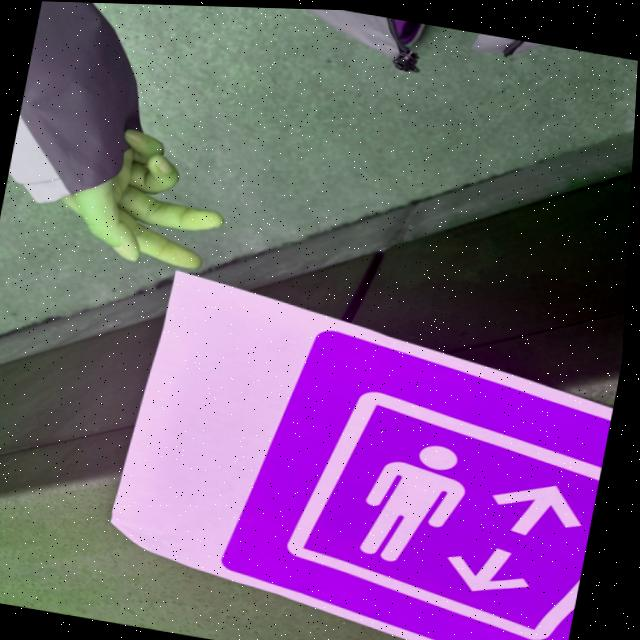elevator: (233, 331, 611, 640)
